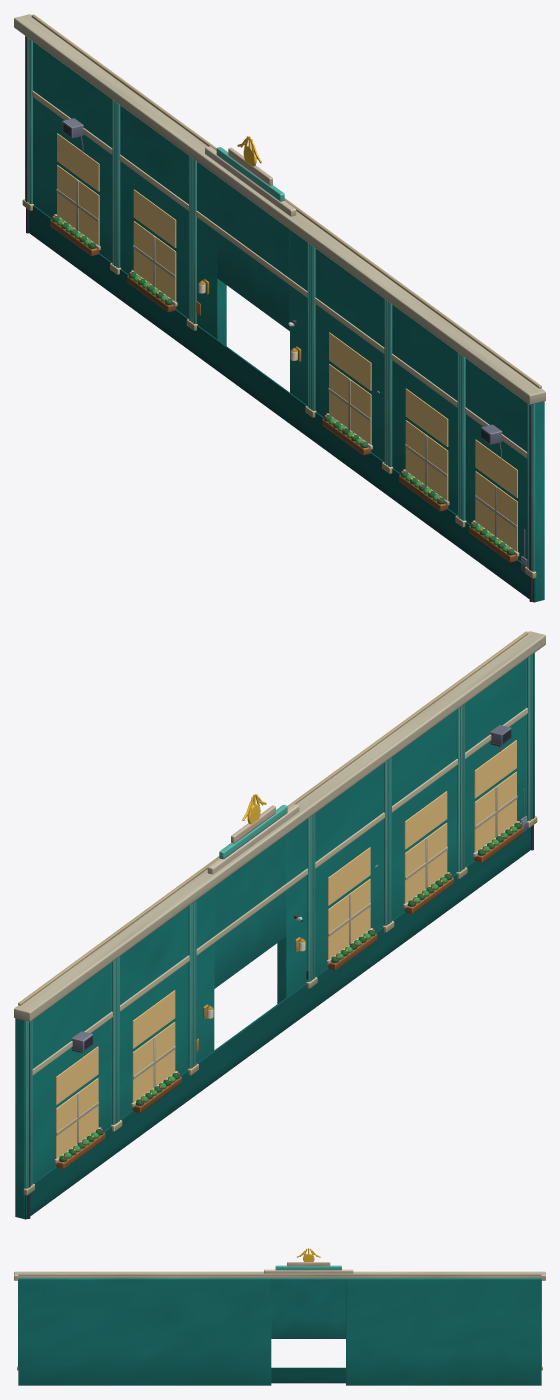
The model's file is SM_Studio_Facade.fbx.
3 renders of one model, top to bottom at view 1: azimuth 30°, elevation 25°; view 2: azimuth 150°, elevation 25°; view 3: azimuth 270°, elevation 25°, orthographic. The views are drawn at different scales.
Parts seen in each view (by area): view 1: SM_Studio_Facade; view 2: SM_Studio_Facade; view 3: SM_Studio_Facade.
Part boxes in pixels (x1,y1,x2,y2): SM_Studio_Facade: [14, 14, 545, 602]; SM_Studio_Facade: [14, 631, 545, 1219]; SM_Studio_Facade: [14, 1248, 545, 1385].
Bounding box in the file's own units: 91.47 × 1030 × 3700.
